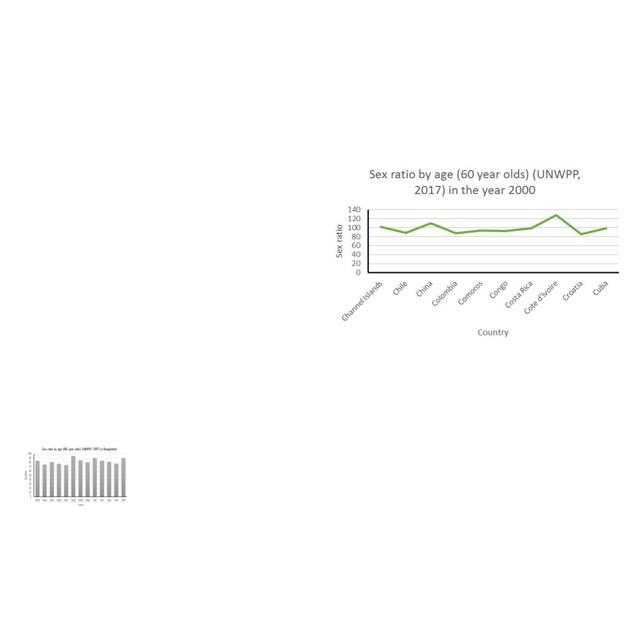Graph: (325, 162, 624, 343), (22, 446, 129, 507)
